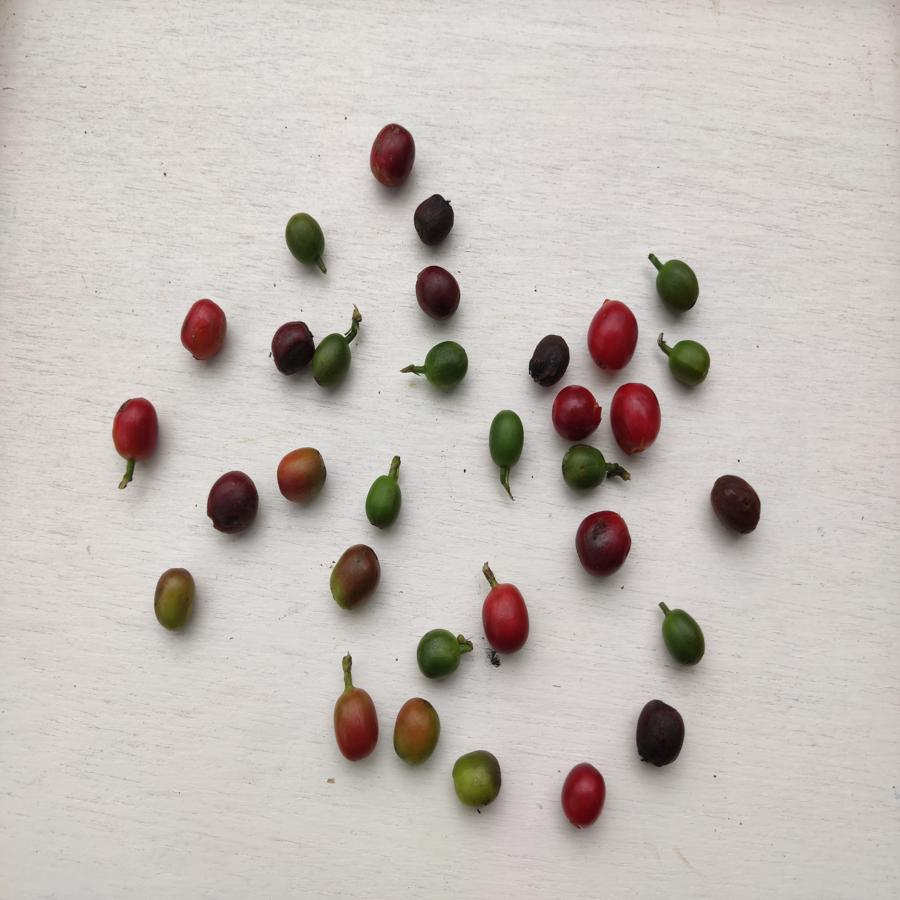Inmaduro: (658, 606, 709, 669), (282, 212, 332, 273), (484, 409, 531, 471), (418, 339, 471, 393), (653, 256, 701, 313), (663, 335, 714, 387), (559, 442, 608, 492), (415, 629, 463, 680), (362, 474, 405, 530), (313, 333, 352, 394)
Maduro: (608, 380, 664, 459), (478, 581, 535, 654), (583, 298, 639, 372), (560, 759, 610, 833), (108, 395, 159, 465), (179, 299, 228, 361), (552, 384, 601, 441)
Pinton: (327, 544, 383, 614), (331, 687, 383, 761), (447, 747, 507, 805), (391, 697, 442, 763), (152, 565, 199, 634), (275, 447, 326, 506)
Sobremaduro: (573, 506, 634, 577), (632, 698, 688, 769), (207, 472, 259, 538), (710, 474, 761, 537), (370, 122, 415, 190), (271, 320, 314, 382), (415, 263, 461, 320), (411, 193, 455, 250), (529, 331, 571, 388)
